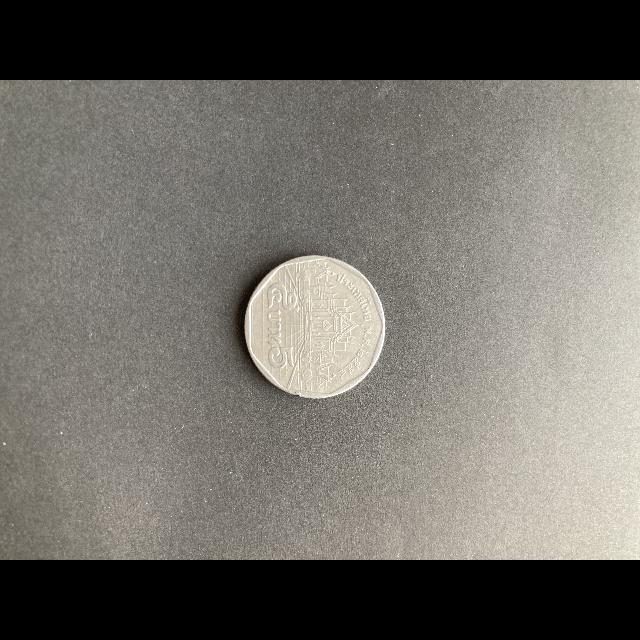5 Bath: (237, 247, 391, 408)
